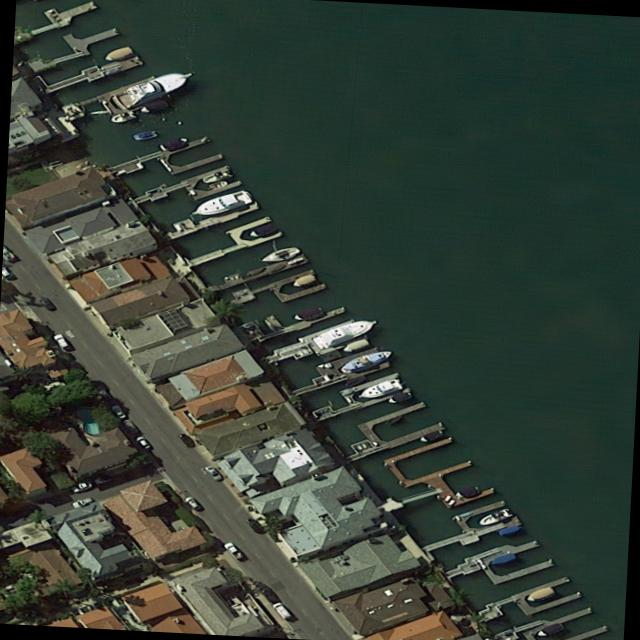ship: (109, 65, 199, 109), (310, 315, 382, 351), (188, 189, 254, 220), (337, 346, 397, 373), (354, 377, 403, 401), (258, 244, 303, 265), (476, 508, 513, 526), (246, 221, 280, 238), (524, 585, 556, 602), (291, 306, 325, 322), (158, 135, 190, 151), (102, 45, 134, 61), (340, 337, 371, 353), (201, 169, 234, 184), (535, 621, 565, 637), (139, 98, 168, 114), (454, 484, 484, 499), (107, 110, 137, 123), (290, 273, 317, 287), (386, 390, 413, 404), (489, 552, 517, 565), (419, 428, 445, 442), (496, 523, 523, 536), (344, 373, 368, 387), (132, 128, 157, 141), (207, 179, 229, 190)
small-vehicle: (270, 600, 293, 619), (259, 584, 283, 602), (222, 541, 246, 559), (36, 293, 57, 311), (244, 515, 265, 533), (52, 332, 72, 349), (203, 464, 224, 480), (69, 480, 94, 492), (176, 432, 196, 447), (109, 403, 128, 418), (133, 434, 152, 449), (182, 495, 202, 509), (70, 496, 93, 508)
